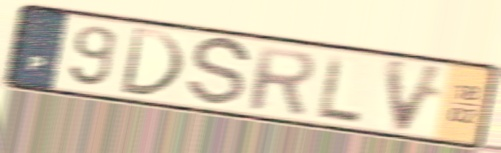9: (67, 24, 119, 88)
D: (116, 24, 187, 100)
L: (316, 51, 364, 125)
R: (246, 42, 318, 117)
S: (183, 35, 254, 110)
V: (382, 55, 451, 137)
